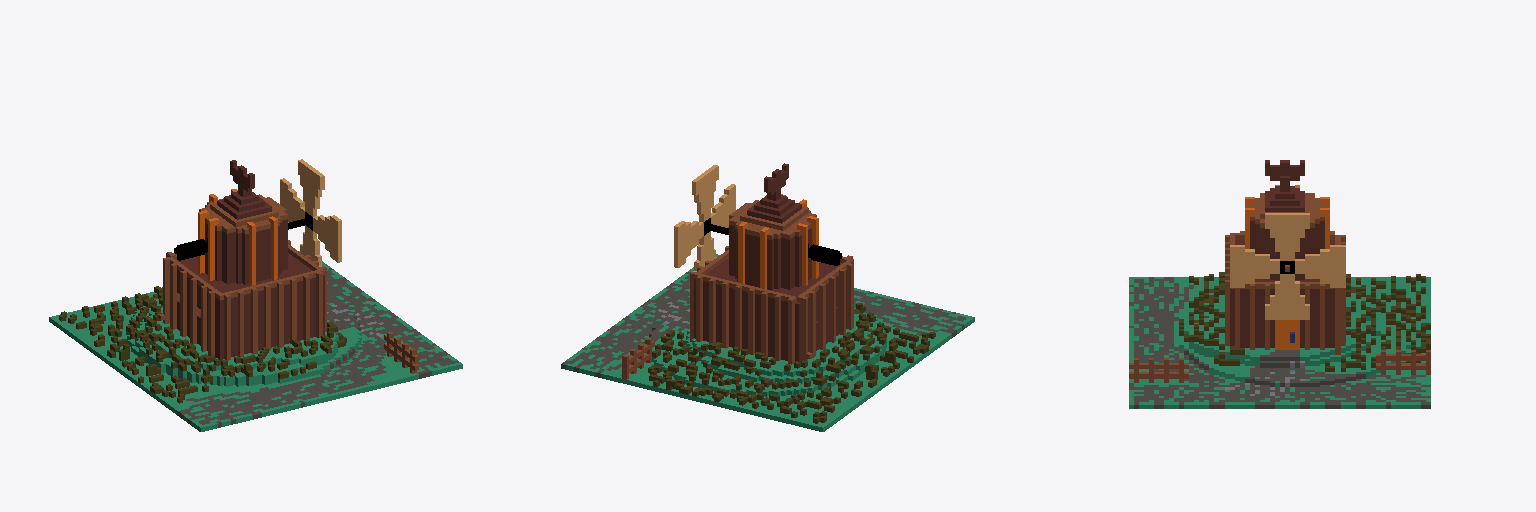
3 views of the same model, side by side, from view 1: azimuth 30°, elevation 25°; view 2: azimuth 150°, elevation 25°; view 3: azimuth 270°, elevation 25° (orthographic).
Visible parts, largest first — view 1: object 1; view 2: object 1; view 3: object 1.
Boxes of the visible parts, box(x1,y1,x2,y2) form: object 1: box(49, 159, 462, 431); object 1: box(561, 163, 974, 431); object 1: box(1129, 160, 1430, 408).
Bounding box in the file's own units: 6 × 3.9 × 6.
Materials: 1 (1 with a texture image).